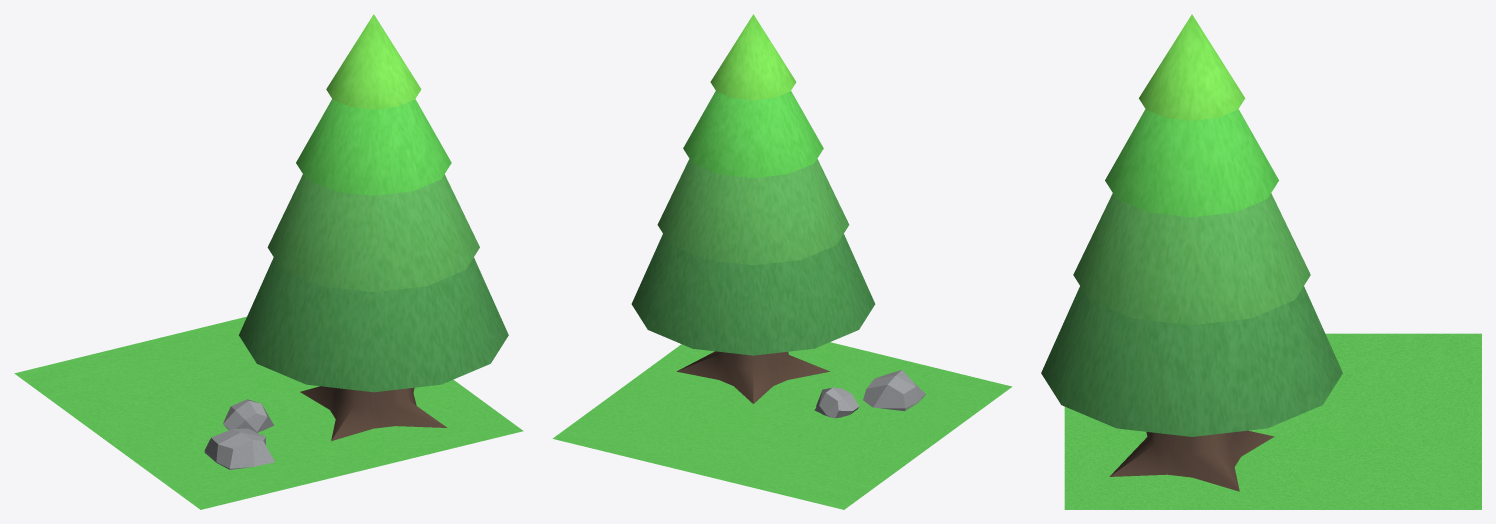
File: park_12.fbx
The picture shows the model from 3 angles, left to right: view 1: azimuth 30°, elevation 25°; view 2: azimuth 150°, elevation 25°; view 3: azimuth 270°, elevation 25°; orthographic projection. The views are drawn at different scales.
Visible parts, largest first — view 1: pinetree, park_green.021, stone.017, stone.018; view 2: pinetree, park_green.021, stone.017, stone.018; view 3: pinetree, park_green.021.
Part boxes in pixels (bbox=[...]): pinetree: bbox=[239, 14, 508, 441]; park_green.021: bbox=[14, 316, 523, 509]; stone.017: bbox=[204, 428, 274, 469]; stone.018: bbox=[223, 399, 273, 432]; pinetree: bbox=[631, 14, 875, 403]; park_green.021: bbox=[552, 342, 1011, 509]; stone.017: bbox=[863, 370, 925, 410]; stone.018: bbox=[814, 387, 859, 418]; pinetree: bbox=[1041, 14, 1342, 491]; park_green.021: bbox=[1064, 333, 1481, 509].
Bounding box in the file's own units: 2.15 × 2.5 × 2.11.
